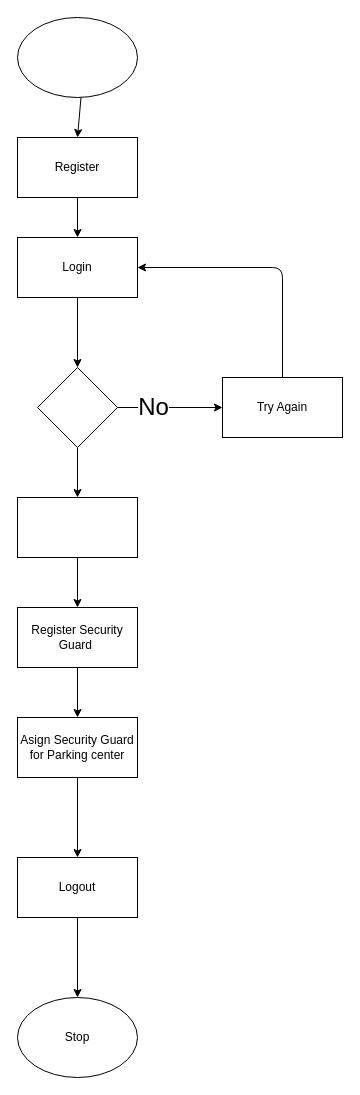
This 360x1095 diagram has some shape labels left out. Here are the shapes that lost their labels. From the top down, the centre of each, then its label:
[77,57]: Start
[77,407]: Success
[77,527]: Register parking center
